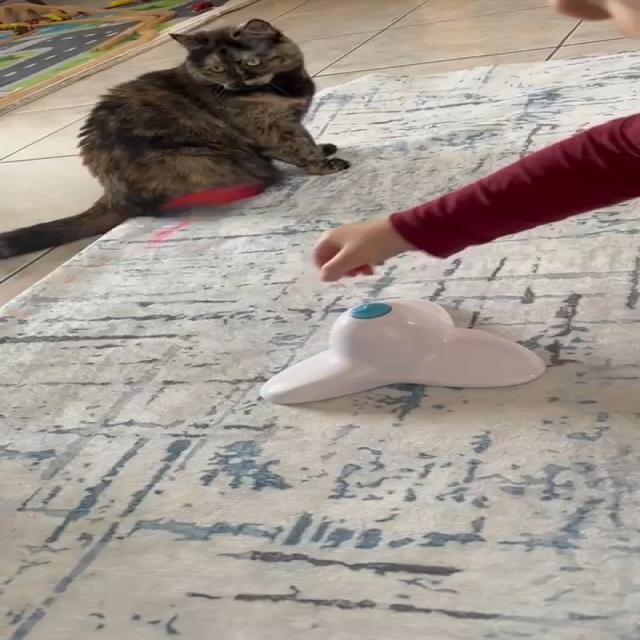authorized: (0, 17, 351, 260)
